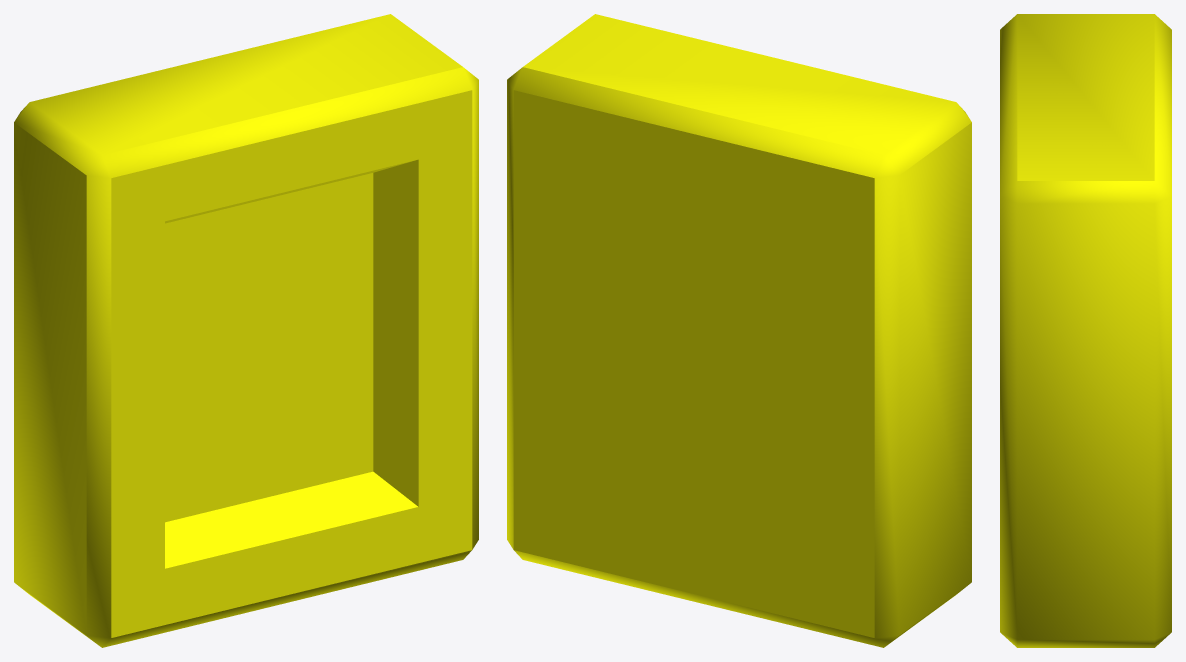
Rendered from kaykit-pictureframe-small-a.glb.
3 renders of one model, left to right at view 1: azimuth 30°, elevation 25°; view 2: azimuth 150°, elevation 25°; view 3: azimuth 270°, elevation 25°, orthographic. The views are drawn at different scales.
Parts seen in each view (by area): view 1: pictureframe_small_A; view 2: pictureframe_small_A; view 3: pictureframe_small_A.
Boxes of the visible parts, x1,y1,x2,y2 form: pictureframe_small_A: (14,14,478,647); pictureframe_small_A: (507,14,971,647); pictureframe_small_A: (1000,14,1171,647).
Bounding box in the file's own units: 0.5 × 0.6 × 0.2.
